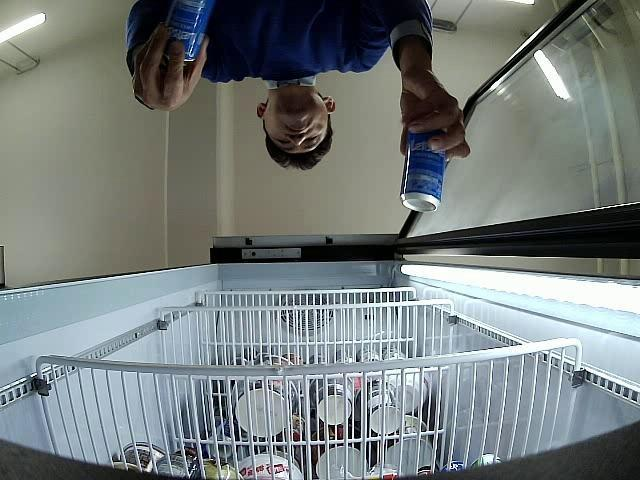15_letsbe: (400, 130, 446, 213), (168, 0, 212, 61)
